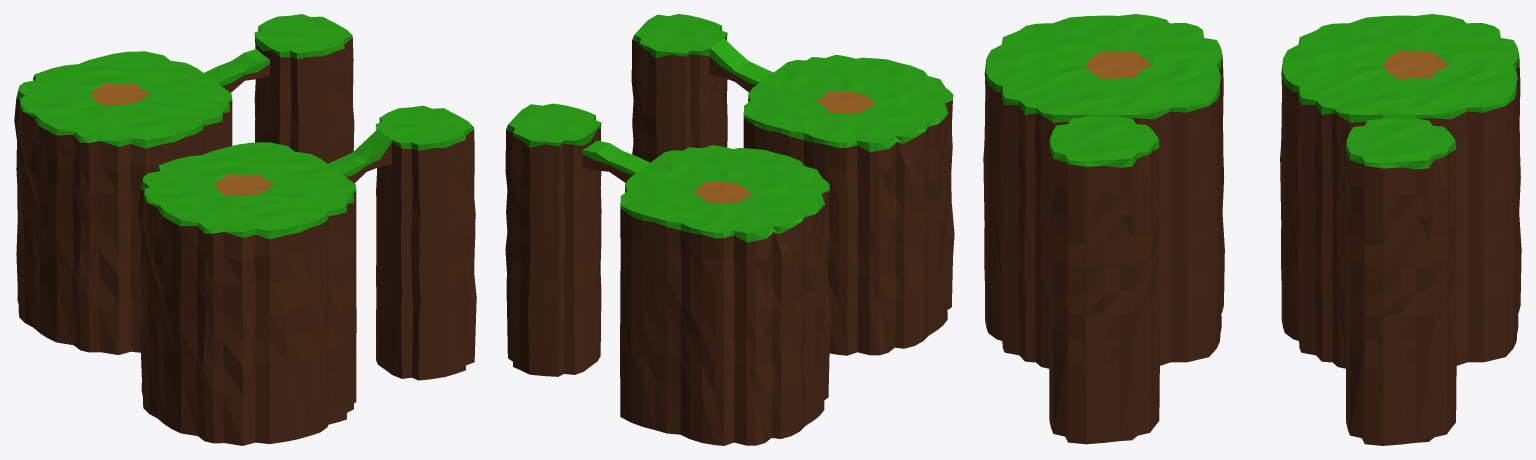
File: LEVEL_1_2.fbx
3 views of the same model, side by side, from view 1: azimuth 30°, elevation 25°; view 2: azimuth 150°, elevation 25°; view 3: azimuth 270°, elevation 25° (orthographic). The views are drawn at different scales.
Visible parts, largest first — view 1: LEVEL_1, LEVEL_2, LVL2_GrassPlane, LVL1_GrassPlane; view 2: LEVEL_2, LEVEL_1, LVL2_GrassPlane, LVL1_GrassPlane; view 3: LEVEL_1, LEVEL_2, LVL2_GrassPlane, LVL1_GrassPlane.
Part boxes in pixels (bbox=[...]): LEVEL_1: bbox=[138, 105, 476, 445]; LEVEL_2: bbox=[14, 14, 354, 354]; LVL2_GrassPlane: bbox=[50, 15, 343, 116]; LVL1_GrassPlane: bbox=[174, 165, 304, 207]; LEVEL_2: bbox=[505, 104, 831, 445]; LEVEL_1: bbox=[631, 14, 954, 355]; LVL2_GrassPlane: bbox=[508, 103, 781, 219]; LVL1_GrassPlane: bbox=[789, 79, 899, 129]; LEVEL_1: bbox=[983, 14, 1224, 444]; LEVEL_2: bbox=[1280, 14, 1521, 445]; LVL2_GrassPlane: bbox=[1347, 37, 1482, 161]; LVL1_GrassPlane: bbox=[1069, 36, 1169, 93].
Size of the model in its own units: 2513 by 1861 by 3212.
